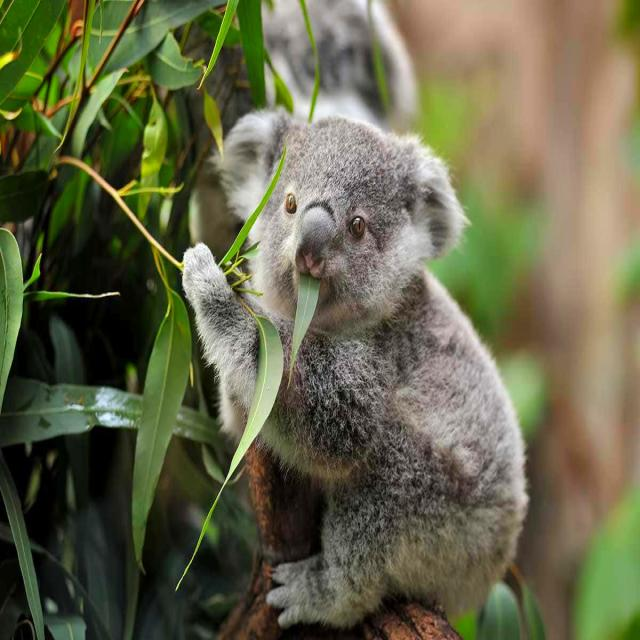koala: (181, 108, 528, 628)
